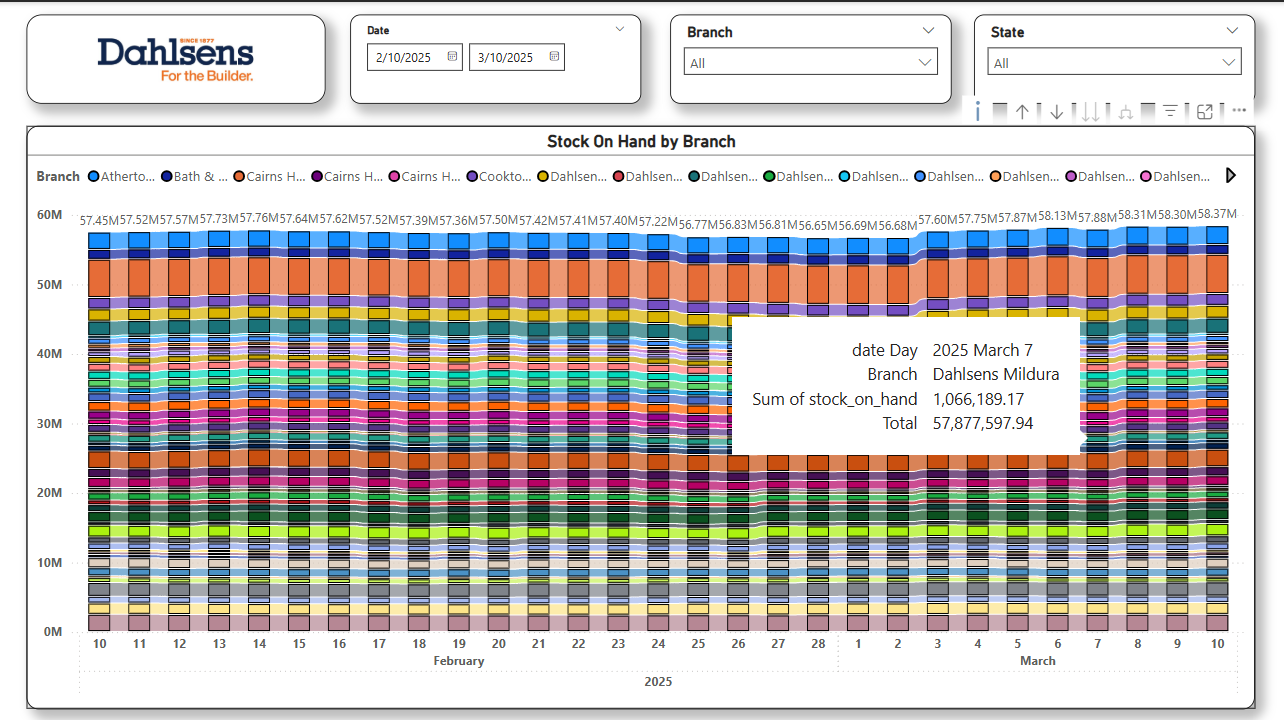

What the dashboard file says about the page in this screenshot:
{"tool":"powerbi","page":{"name":"Inventory - Stock on Hand  by Branch","canvas":[1280,720],"ordinal":3},"visuals":[{"type":"slicer","fields":{"Values":["Query2.date"]},"box":[349.9,12.3,289.5,89.2],"z":0},{"type":"slicer","fields":{"Values":["Query2.state"]},"box":[970.2,12.3,279.9,89.2],"z":1000},{"type":"slicer","fields":{"Values":["Query2.branch"]},"box":[668.3,12.3,279.9,89.2],"z":2000},{"type":"image","box":[27.4,12.3,297.8,89.2],"z":3000},{"type":"columnChart","title":"Stock On Hand by Branch","fields":{"Y":["Sum(Query2.stock_on_hand)"],"Category":["Query2.date.Variation.Date Hierarchy.Year","Query2.date.Variation.Date Hierarchy.Month","Query2.date.Variation.Date Hierarchy.Day"],"Series":["Second Model.branch"]},"box":[27.4,123.5,1222.6,580.4],"z":4000}]}

Visuals, with their boxes on the page's 1280x720 design canvas (x1, y1, x2, y2). These are canvas units, not pixel positions in the 1284x720 screenshot, which may show the page scaled, cropped or inside an application window:
slicer - Query2.date: bbox=(350, 12, 639, 102)
slicer - Query2.state: bbox=(970, 12, 1250, 102)
slicer - Query2.branch: bbox=(668, 12, 948, 102)
image: bbox=(27, 12, 325, 102)
"Stock On Hand by Branch" columnChart: bbox=(27, 124, 1250, 704)
